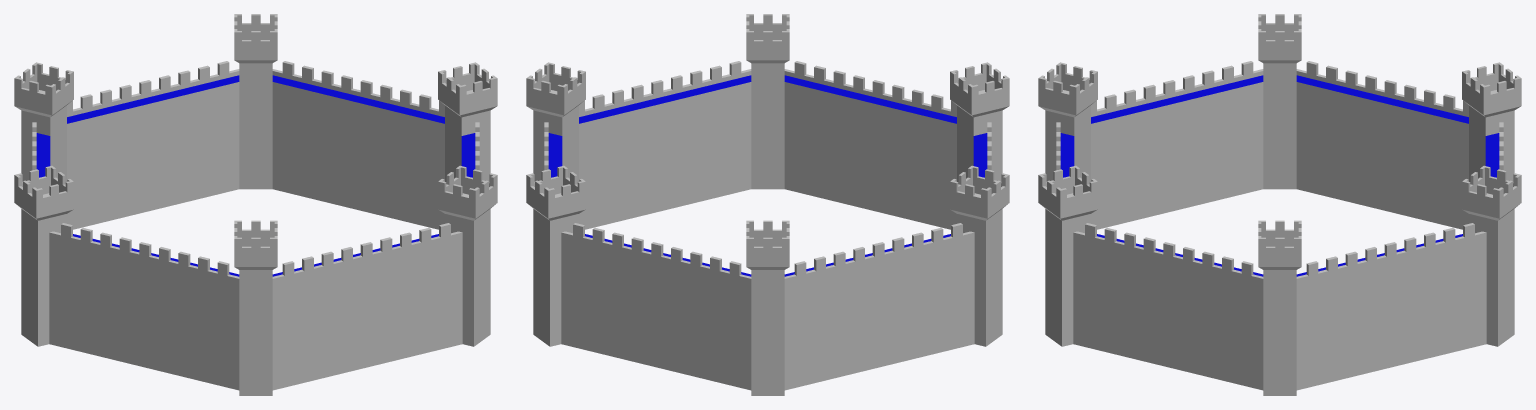
Rendered from FBX_Wall.fbx.
The picture shows the model from 3 angles, left to right: view 1: azimuth 30°, elevation 25°; view 2: azimuth 150°, elevation 25°; view 3: azimuth 270°, elevation 25°; orthographic projection.
Parts seen in each view (by area): view 1: Wall; view 2: Wall; view 3: Wall.
Boxes of the visible parts, bbox=[...] form: Wall: bbox=[14, 14, 497, 395]; Wall: bbox=[526, 14, 1009, 395]; Wall: bbox=[1038, 14, 1521, 395].
Bounding box in the file's own units: 795 × 262 × 721.
